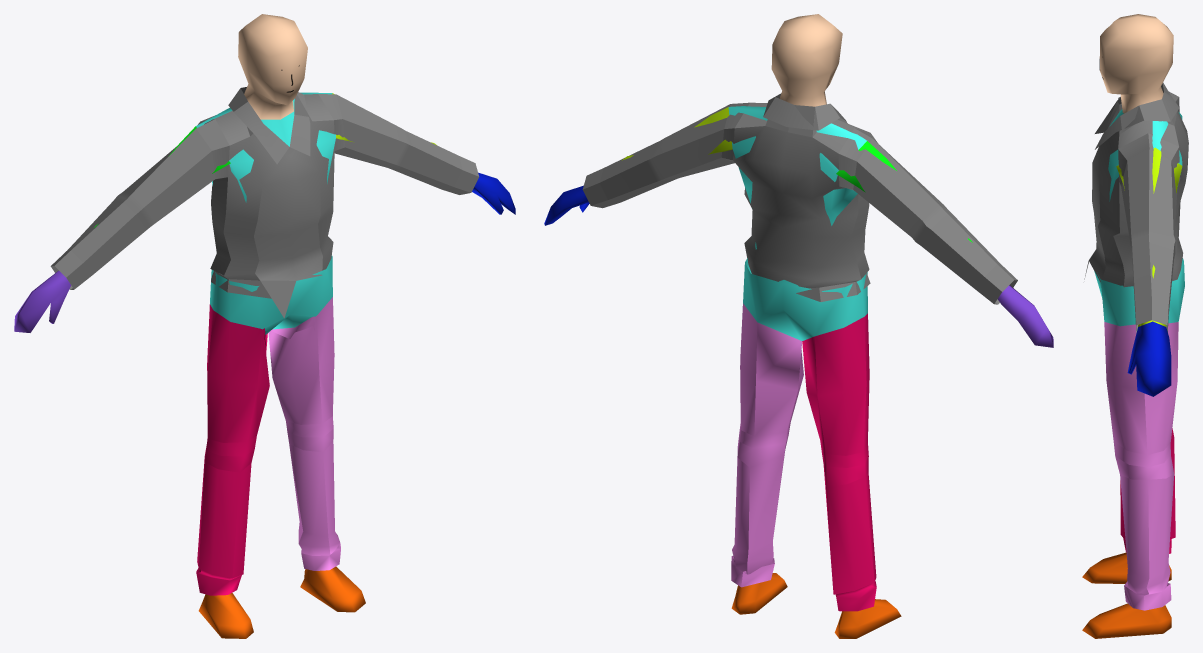
The model's file is Richard.obj.
The picture shows the model from 3 angles, left to right: view 1: azimuth 30°, elevation 25°; view 2: azimuth 150°, elevation 25°; view 3: azimuth 270°, elevation 25°; orthographic projection.
Visible parts, largest first — view 1: pasted__Hand1, HumanoidBase_NotOverlapping, HumanoidBase_NotOverlapping1; view 2: pasted__Hand1, HumanoidBase_NotOverlapping, HumanoidBase_NotOverlapping1; view 3: pasted__Hand1, HumanoidBase_NotOverlapping, HumanoidBase_NotOverlapping1.
Boxes of the visible parts, box(x1,y1,x2,y2) form: pasted__Hand1: box(50, 87, 479, 318); HumanoidBase_NotOverlapping: box(196, 255, 340, 595); HumanoidBase_NotOverlapping1: box(14, 14, 515, 638); pasted__Hand1: box(582, 93, 1017, 304); HumanoidBase_NotOverlapping: box(731, 258, 876, 611); HumanoidBase_NotOverlapping1: box(544, 14, 1053, 638); pasted__Hand1: box(1084, 82, 1188, 332); HumanoidBase_NotOverlapping: box(1094, 259, 1184, 610); HumanoidBase_NotOverlapping1: box(1082, 14, 1183, 638).
Size of the model in its own units: 161 by 180 by 29.7.
Materials: 2 (1 with a texture image).
